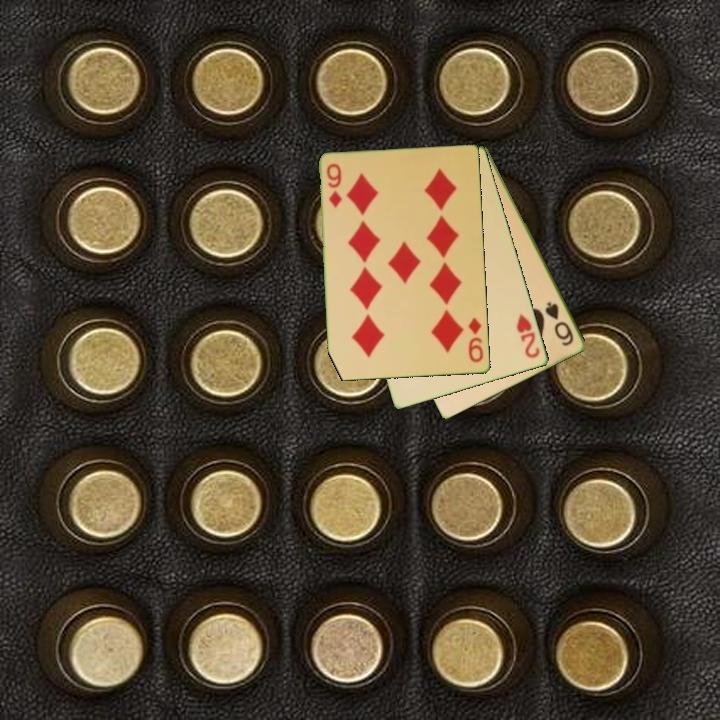2h: (513, 311, 543, 362)
6s: (542, 298, 577, 349)
9d: (323, 160, 345, 211), (465, 315, 486, 366)
